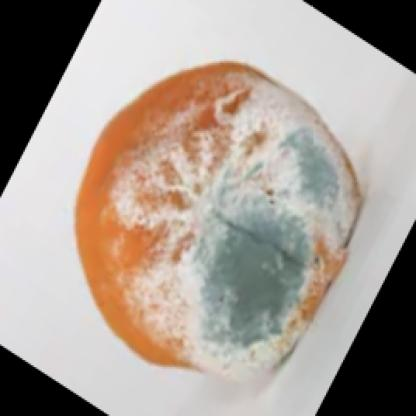rotten: (75, 61, 366, 378)
